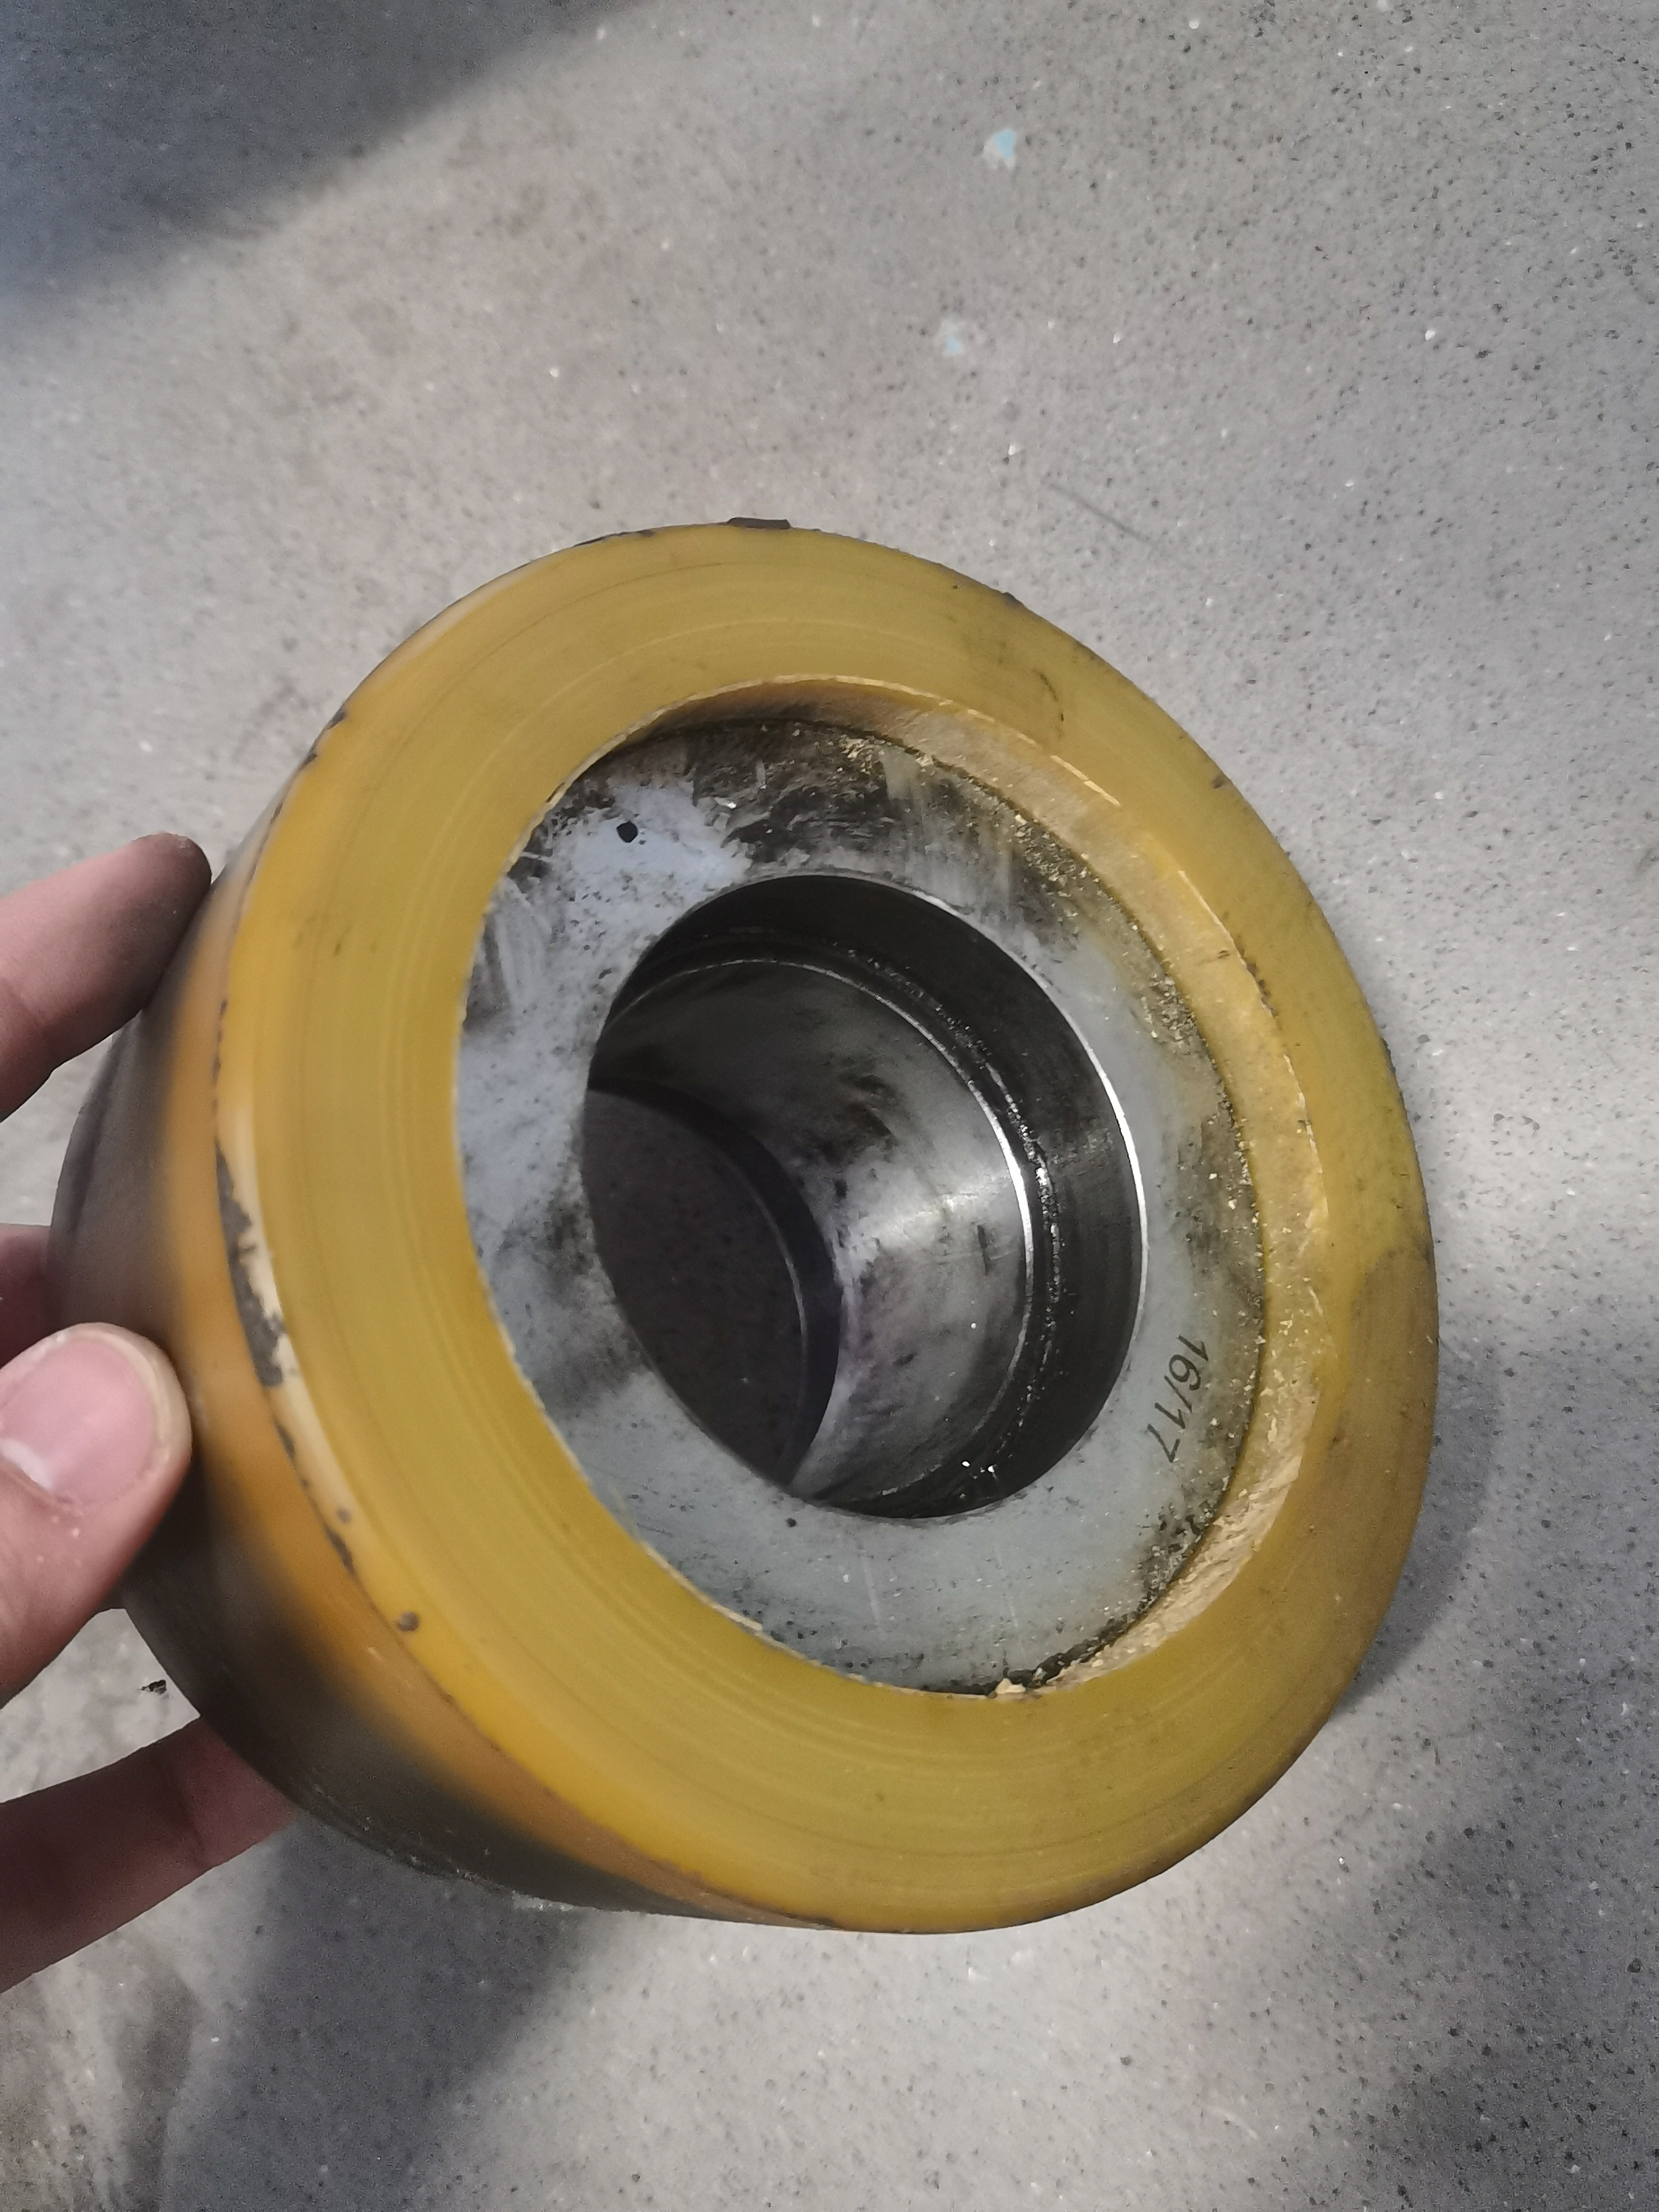bad_wheel: (1155, 1068, 1371, 1620), (812, 653, 1115, 887)
